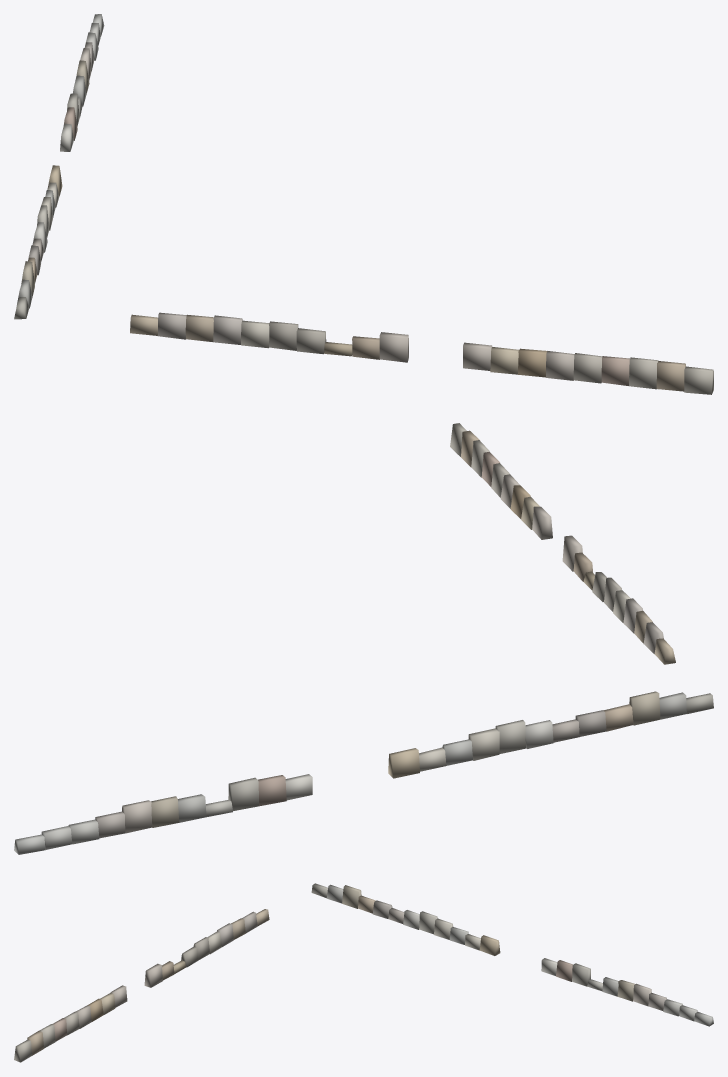
File: farm_8_6_far.glb
3 views of the same model, one above another, from view 1: azimuth 30°, elevation 25°; view 2: azimuth 150°, elevation 25°; view 3: azimuth 270°, elevation 25° (orthographic). The views are drawn at different scales.
Visible parts, largest first — view 1: geometry_0; view 2: geometry_0; view 3: geometry_0.
Part boxes in pixels (x1,y1,x2,y2): geometry_0: (14,14,713,394); geometry_0: (14,423,713,854); geometry_0: (14,883,713,1062).
Size of the model in its own units: 30.31 by 2.93 by 57.64.
